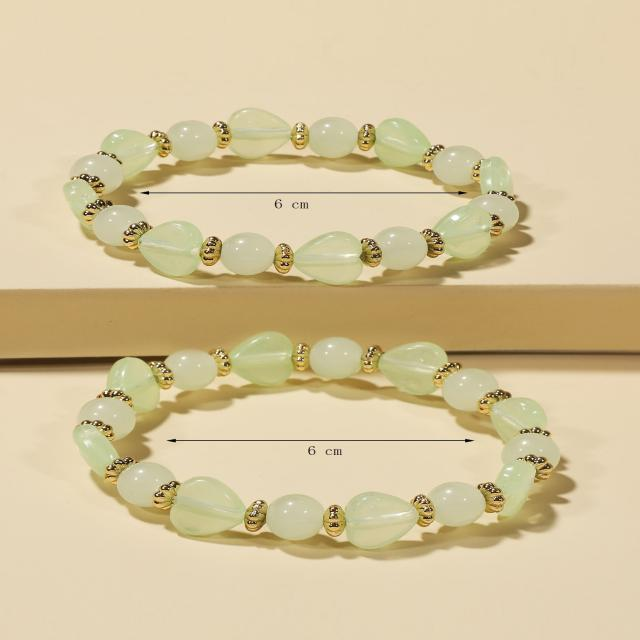bracelet: (16, 293, 640, 588), (37, 46, 616, 318)
